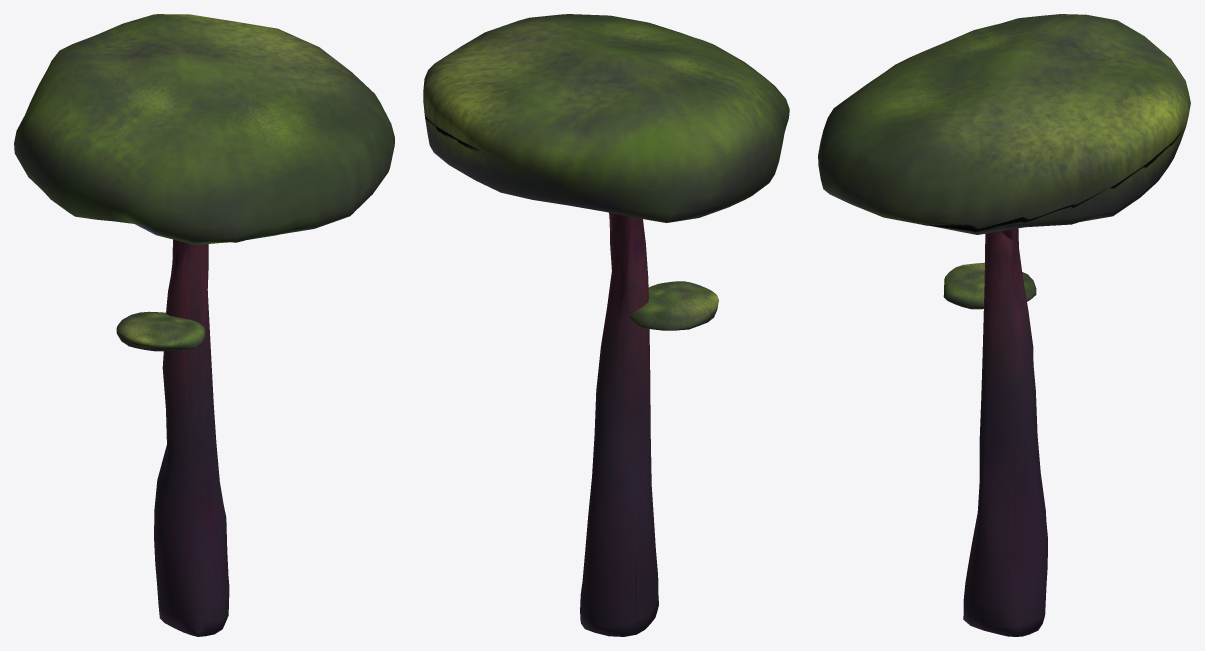
Rendered from tree01.obj.
3 renders of one model, left to right at view 1: azimuth 30°, elevation 25°; view 2: azimuth 150°, elevation 25°; view 3: azimuth 270°, elevation 25°, orthographic. The views are drawn at different scales.
Visible parts, largest first — view 1: tree01; view 2: tree01; view 3: tree01.
Boxes of the visible parts, x1,y1,x2,y2 form: tree01: (14,14,394,636); tree01: (423,14,789,636); tree01: (818,14,1190,636).
Bounding box in the file's own units: 52.9 × 89.1 × 52.87.
1 material, 1 textured.
